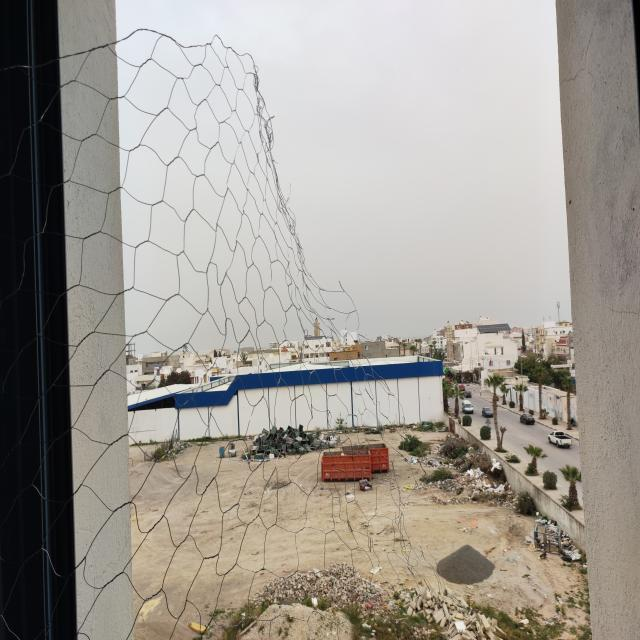fence line: (263, 64, 614, 609)
